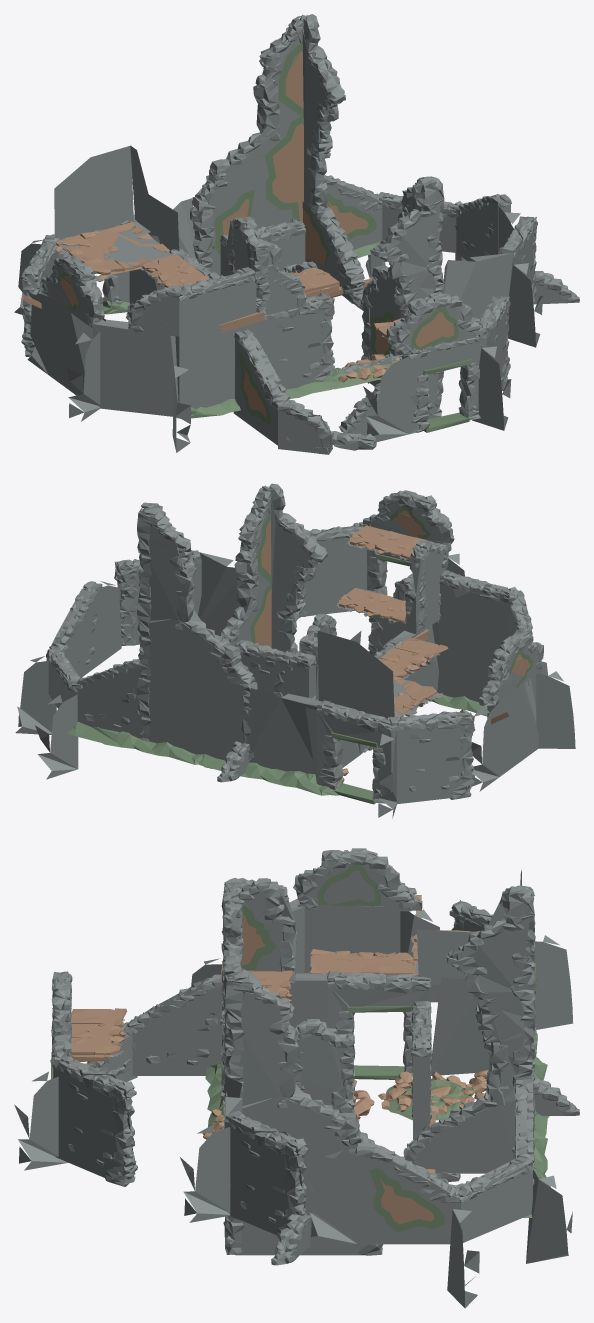
The model's file is jungle_ruins_d-mid.glb.
3 renders of one model, top to bottom at view 1: azimuth 30°, elevation 25°; view 2: azimuth 150°, elevation 25°; view 3: azimuth 270°, elevation 25°, orthographic. The views are drawn at different scales.
Parts seen in each view (by area): view 1: jungle_ruins_2-S_corner_A_LOD0; view 2: jungle_ruins_2-S_corner_A_LOD0; view 3: jungle_ruins_2-S_corner_A_LOD0.
Boxes of the visible parts, x1,y1,x2,y2 form: jungle_ruins_2-S_corner_A_LOD0: [14, 14, 579, 454]; jungle_ruins_2-S_corner_A_LOD0: [15, 483, 575, 818]; jungle_ruins_2-S_corner_A_LOD0: [14, 848, 579, 1308].
Size of the model in its own units: 19.8 by 11.74 by 16.55.
